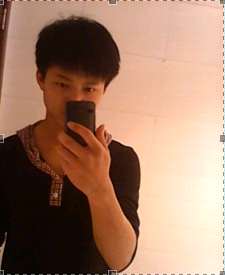face: (43, 54, 104, 136)
